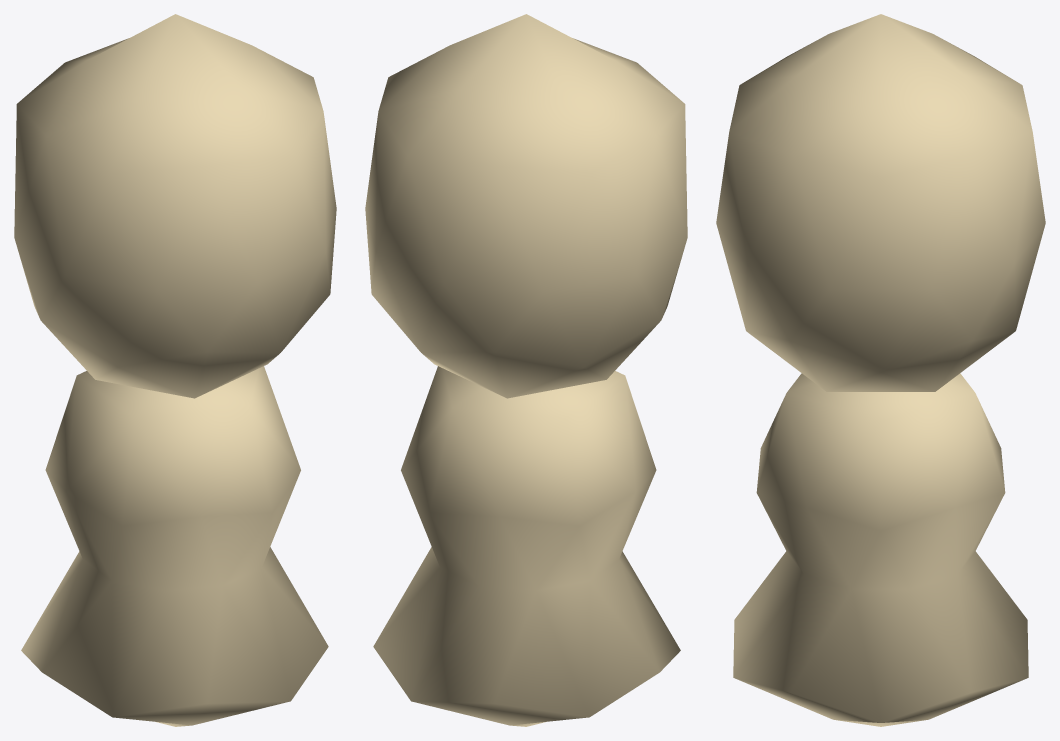
File: fistik.glb
The picture shows the model from 3 angles, left to right: view 1: azimuth 30°, elevation 25°; view 2: azimuth 150°, elevation 25°; view 3: azimuth 270°, elevation 25°; orthographic projection.
Parts seen in each view (by area): view 1: Fistik; view 2: Fistik; view 3: Fistik.
Boxes of the visible parts, bbox=[...] form: Fistik: bbox=[14, 14, 336, 726]; Fistik: bbox=[365, 14, 687, 726]; Fistik: bbox=[716, 14, 1045, 726].
Size of the model in its own units: 0.4689 by 1.17 by 0.4886.
